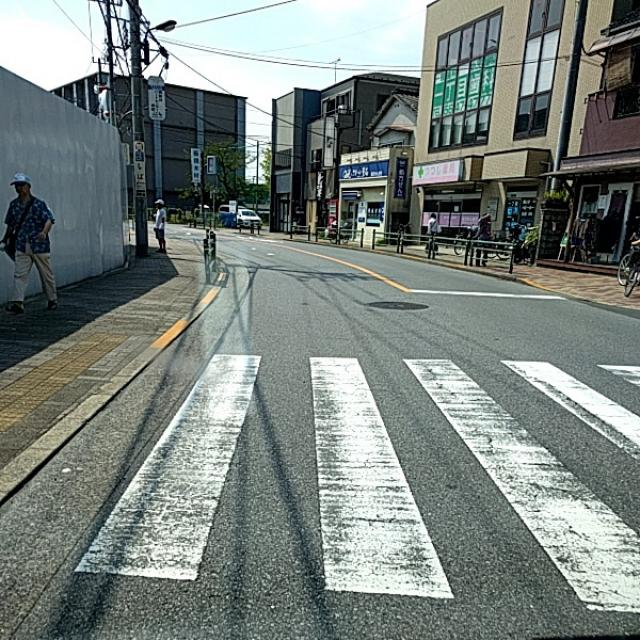pothole: (328, 482, 414, 570)
